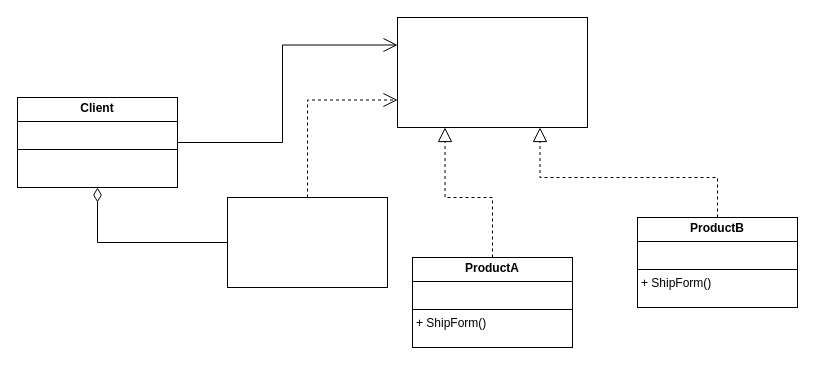
Image size: 815x365. Some labels were removed from this diagram. Here are the shapes that lost their labels. From the top down, the centre of each, then its label:
At point 492,72: "<<Interface>> IProduct + ShipForm()".
At point 307,242: "Creator + FactoryMethod(): IProduct".
